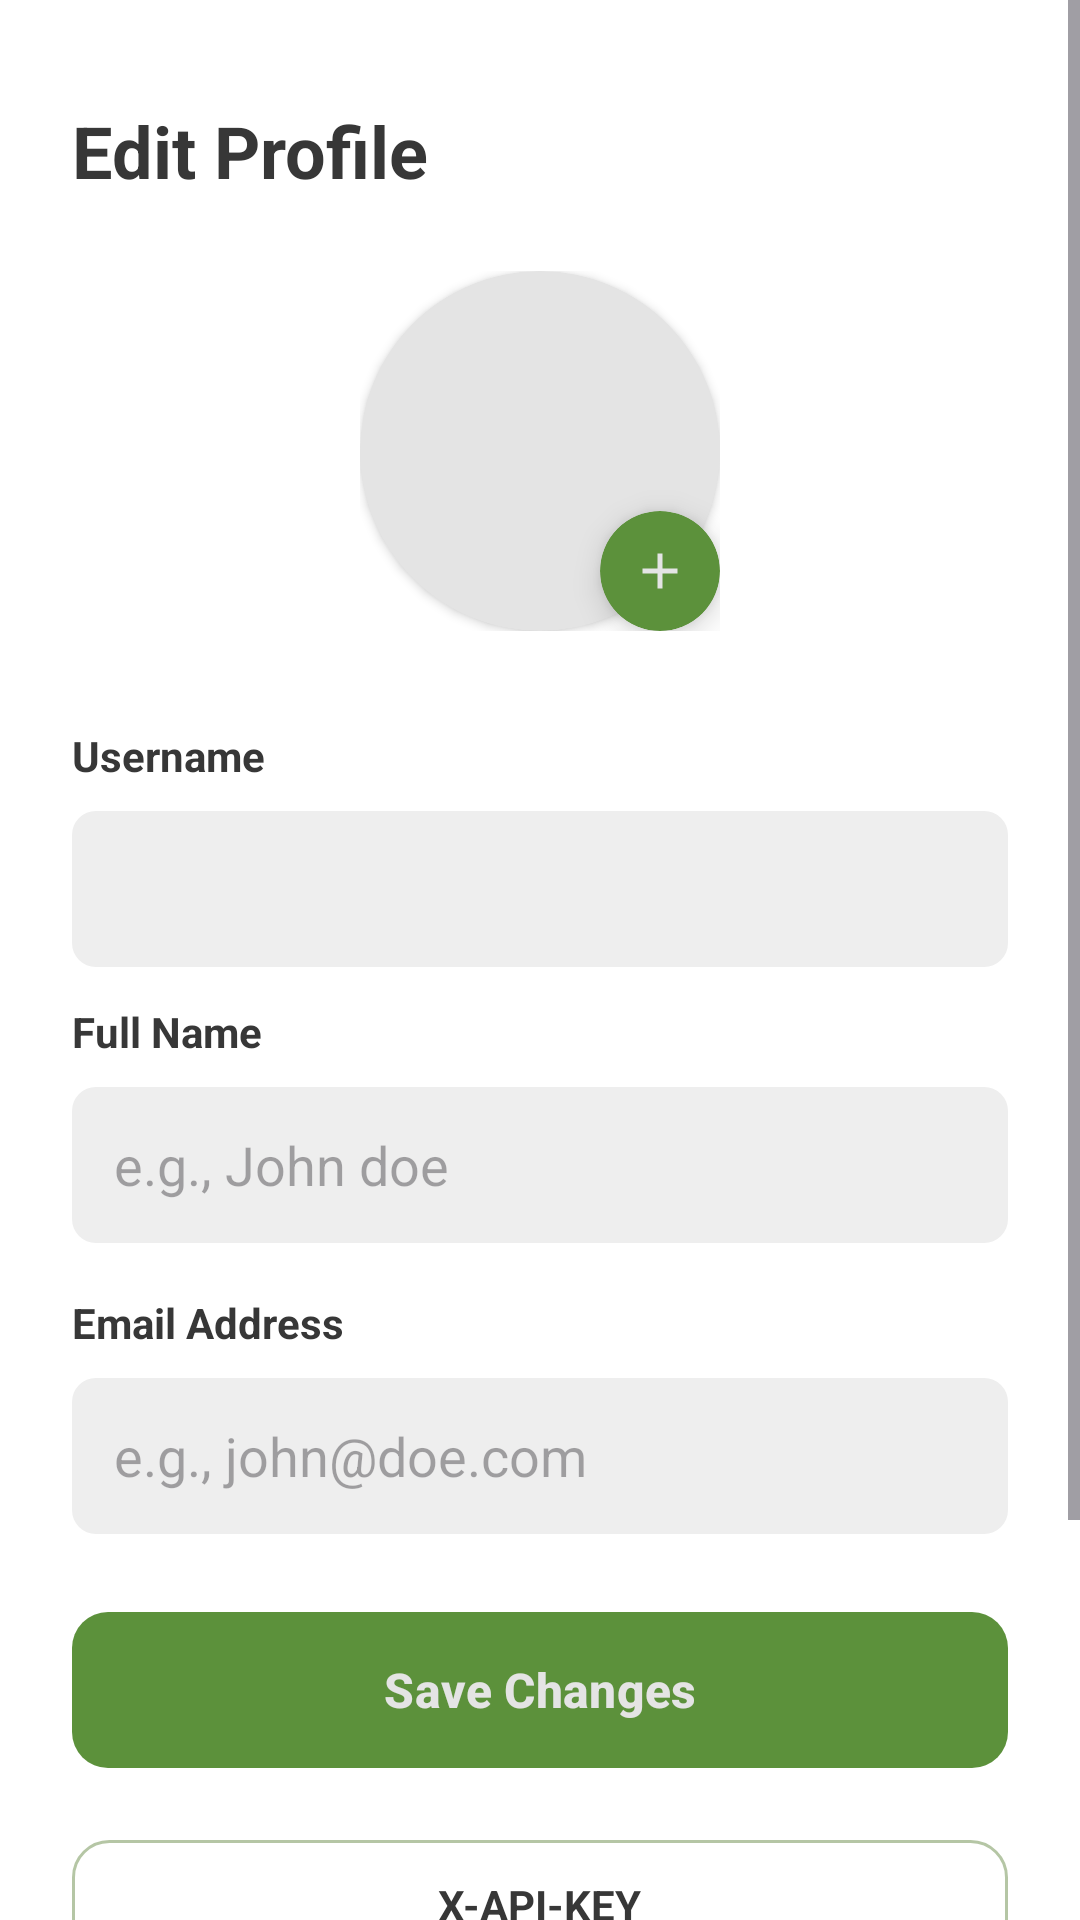

Icon click points for this 1080×1920 phone screenshot, format (x=x, y=y):
add: (x=660, y=571)
